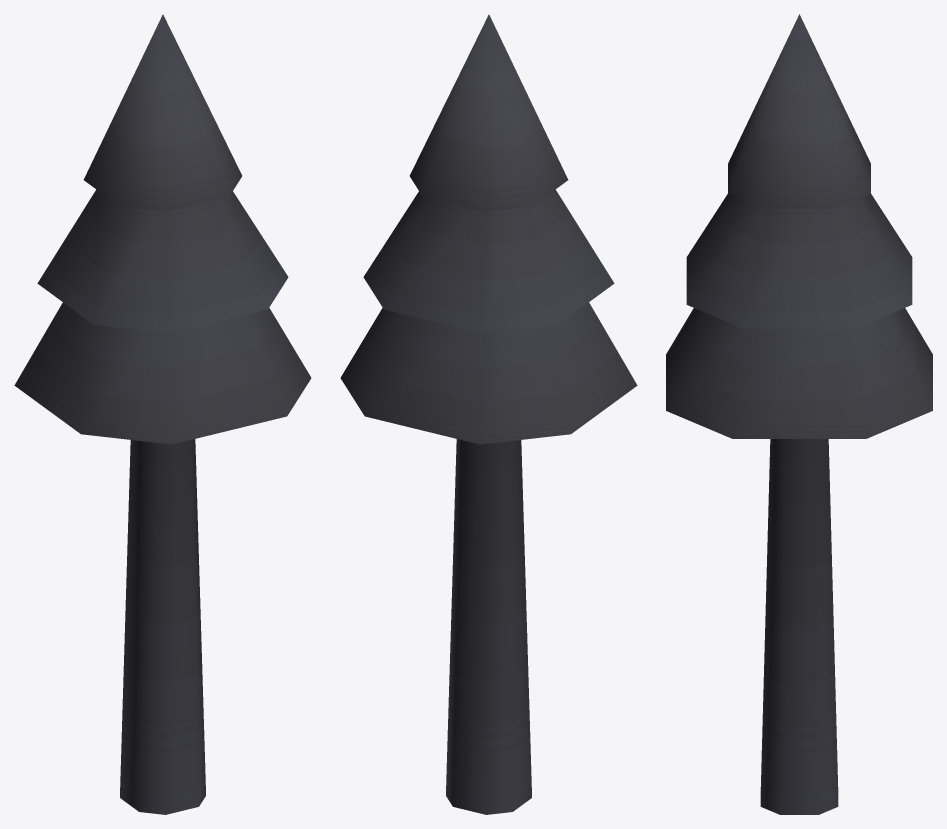
File: tree-tall.glb
3 views of the same model, side by side, from view 1: azimuth 30°, elevation 25°; view 2: azimuth 150°, elevation 25°; view 3: azimuth 270°, elevation 25° (orthographic).
Visible parts, largest first — view 1: tree-tall; view 2: tree-tall; view 3: tree-tall.
Part boxes in pixels (x1,y1,x2,y2): tree-tall: (14, 14, 311, 814); tree-tall: (340, 14, 637, 814); tree-tall: (666, 14, 932, 814).
Size of the model in its own units: 0.75 by 2.43 by 0.75.
1 material, 1 textured.
